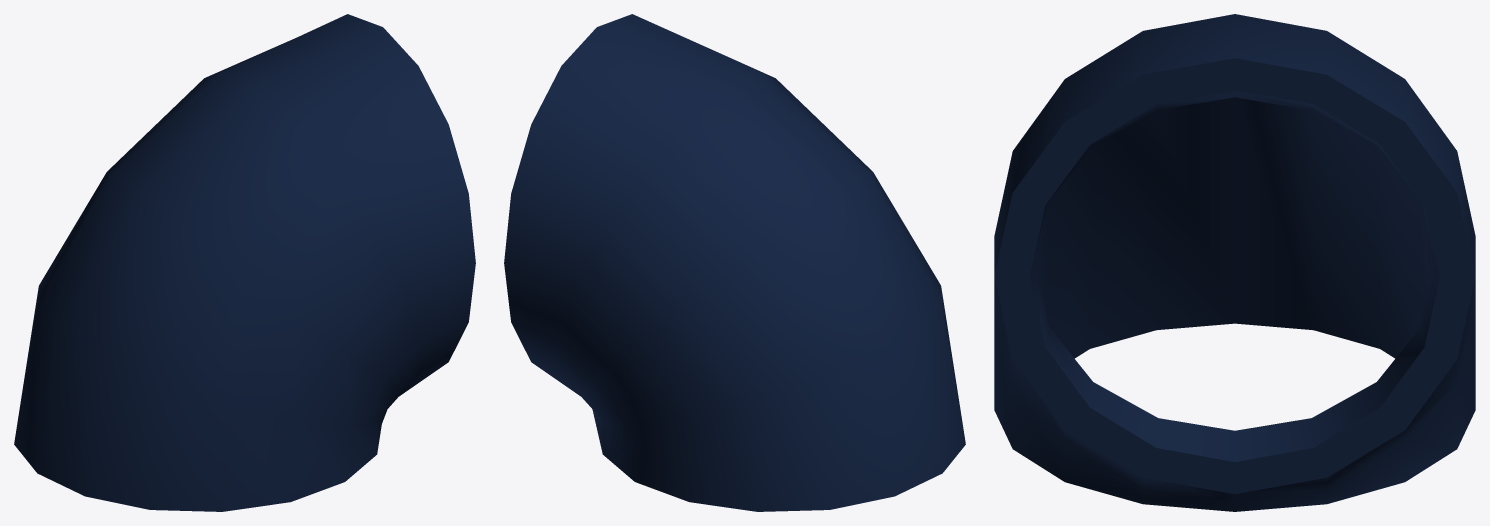
The model's file is Pipe_90.fbx.
3 views of the same model, side by side, from view 1: azimuth 30°, elevation 25°; view 2: azimuth 150°, elevation 25°; view 3: azimuth 270°, elevation 25° (orthographic). The views are drawn at different scales.
Parts seen in each view (by area): view 1: Pipe_90; view 2: Pipe_90; view 3: Pipe_90.
Part boxes in pixels (left/top/right/bottom): Pipe_90: left=14, top=14, right=475, bottom=511; Pipe_90: left=504, top=14, right=965, bottom=511; Pipe_90: left=994, top=14, right=1475, bottom=511.
Size of the model in its own units: 187 by 187 by 174.
